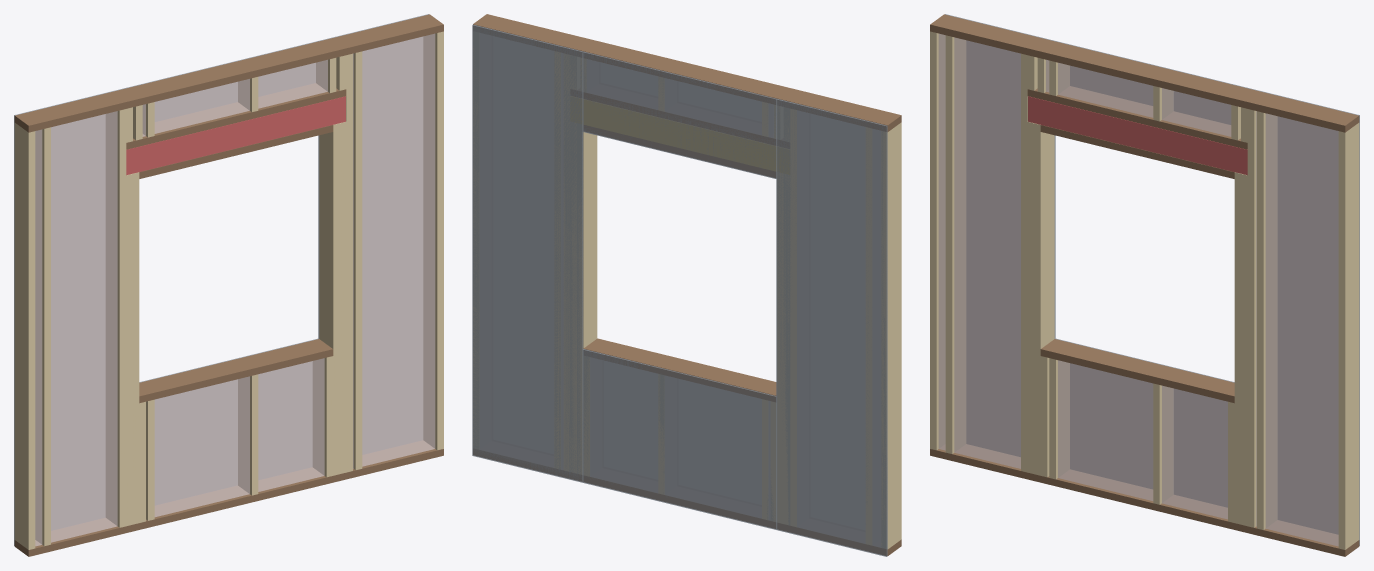
3 views of the same model, side by side, from view 1: azimuth 30°, elevation 25°; view 2: azimuth 150°, elevation 25°; view 3: azimuth 330°, elevation 25° (orthographic).
Visible parts, largest first — view 1: EX18 FF; view 2: EX18 FF; view 3: EX18 FF.
Part boxes in pixels (<box>): EX18 FF: <box>14,14,443,556</box>; EX18 FF: <box>472,14,901,556</box>; EX18 FF: <box>930,14,1359,556</box>.
Size of the model in its own units: 2.4 by 2.38 by 0.149.
